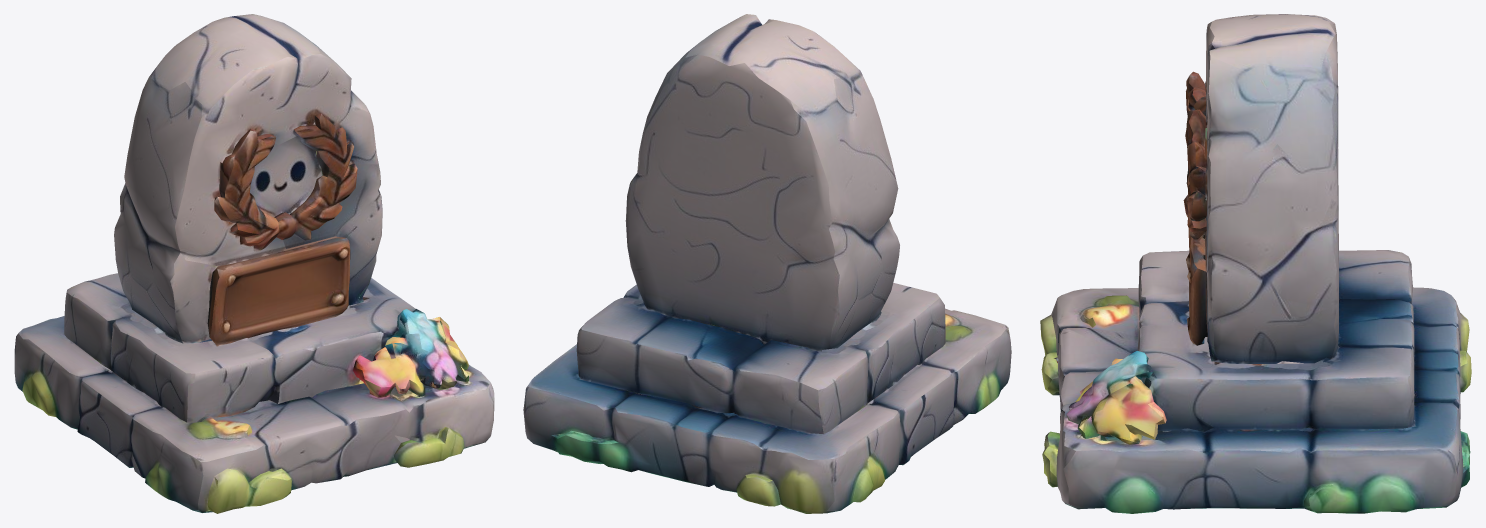
File: memorial.glb
The picture shows the model from 3 angles, left to right: view 1: azimuth 30°, elevation 25°; view 2: azimuth 150°, elevation 25°; view 3: azimuth 270°, elevation 25°; orthographic projection. The views are drawn at different scales.
Parts seen in each view (by area): view 1: memorial_s11; view 2: memorial_s11; view 3: memorial_s11.
Part boxes in pixels (box(x1,y1,x2,y2)): memorial_s11: box(14, 14, 494, 513); memorial_s11: box(523, 14, 1011, 513); memorial_s11: box(1040, 14, 1471, 513).
Size of the model in its own units: 0.9162 by 1 by 0.9594.
Materials: 1 (1 with a texture image).
